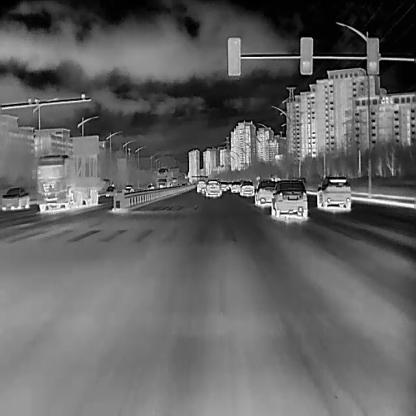car: (31, 153, 104, 214), (269, 179, 308, 218), (315, 176, 351, 211), (1, 186, 30, 211), (254, 180, 277, 207), (157, 167, 173, 189), (205, 179, 221, 197), (239, 180, 254, 196), (123, 184, 134, 195), (105, 184, 115, 196), (231, 180, 241, 192), (197, 180, 206, 192), (220, 180, 229, 191), (146, 183, 154, 189)
